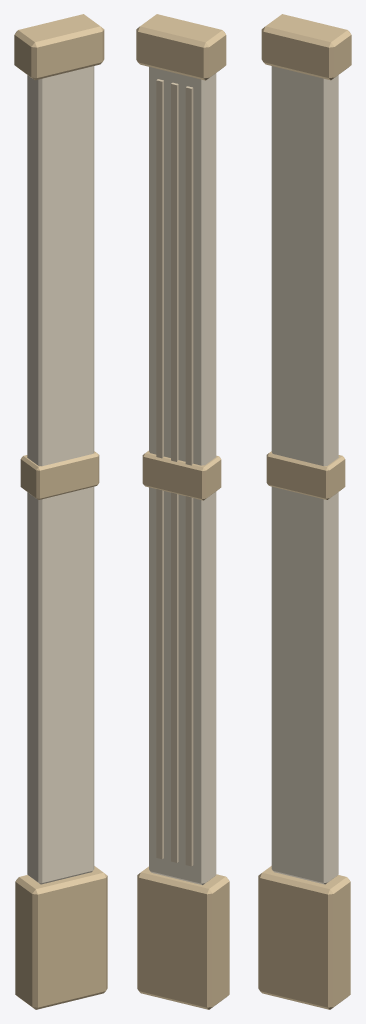
Rendered from lib_column.glb.
The picture shows the model from 3 angles, left to right: view 1: azimuth 30°, elevation 25°; view 2: azimuth 150°, elevation 25°; view 3: azimuth 330°, elevation 25°; orthographic projection.
Visible parts, largest first — view 1: column; view 2: column; view 3: column.
Boxes of the visible parts, x1=… form: column: x1=14, y1=14, x2=107, y2=1009; column: x1=136, y1=14, x2=229, y2=1009; column: x1=258, y1=14, x2=351, y2=1009.
Bounding box in the file's own units: 0.62 × 7.6 × 0.33.
